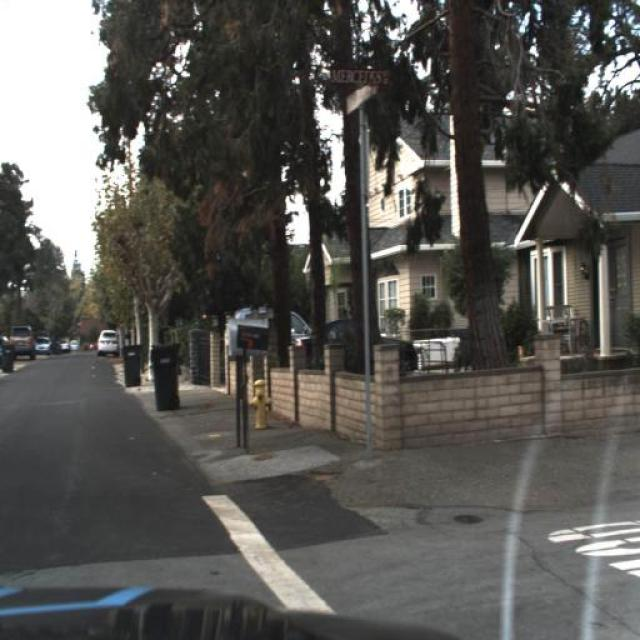car: (266, 310, 420, 391), (216, 300, 312, 368), (8, 325, 36, 363), (97, 327, 119, 358)
